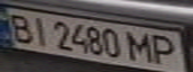0: (103, 26, 124, 60)
2: (48, 18, 72, 52)
4: (66, 21, 87, 55)
8: (84, 24, 106, 56)
B: (3, 11, 36, 44)
I: (24, 15, 51, 46)
M: (124, 29, 157, 63)
P: (145, 33, 184, 66)
